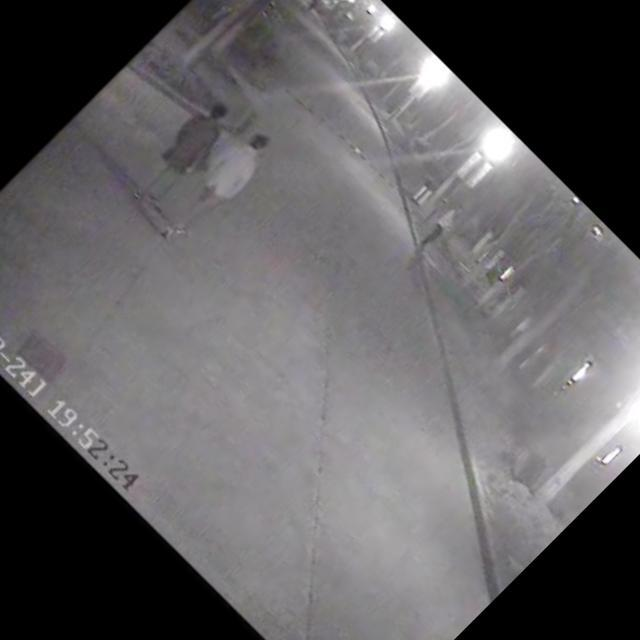person: (136, 104, 296, 266), (114, 82, 250, 220), (400, 184, 476, 260)
